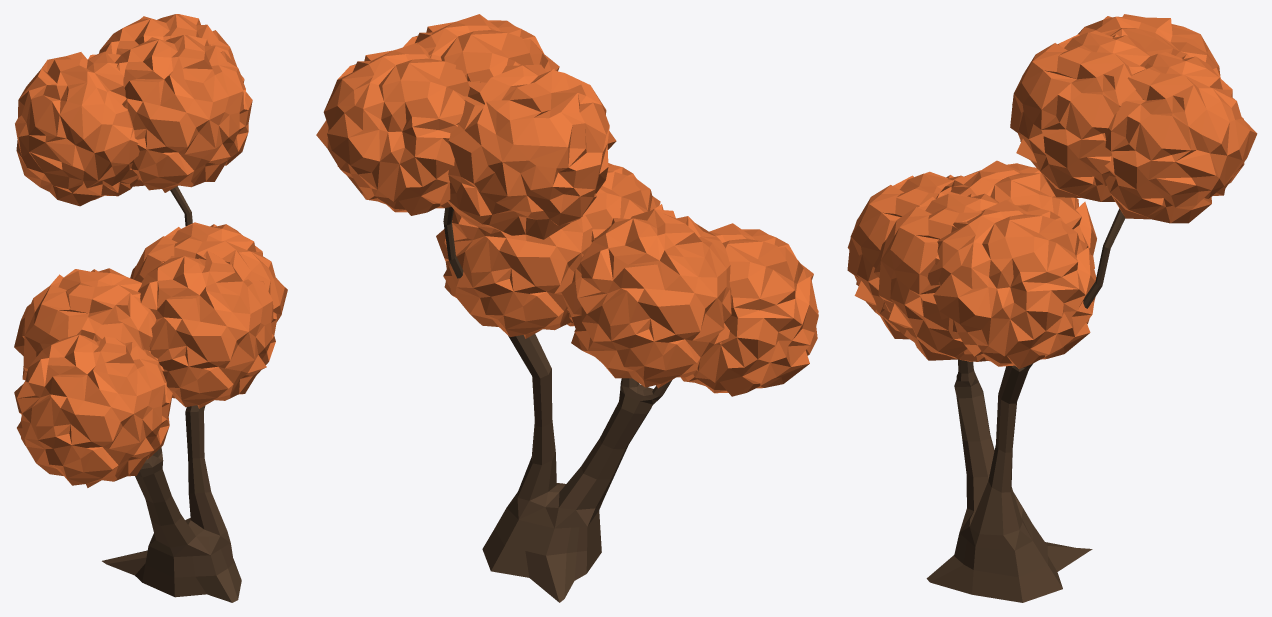
Rendered from fall tree 6.fbx.
3 renders of one model, left to right at view 1: azimuth 30°, elevation 25°; view 2: azimuth 150°, elevation 25°; view 3: azimuth 270°, elevation 25°, orthographic. The views are drawn at different scales.
Visible parts, largest first — view 1: LowPoly Tree .012; view 2: LowPoly Tree .012; view 3: LowPoly Tree .012.
Part boxes in pixels (bbox=[...]): LowPoly Tree .012: bbox=[14, 14, 287, 602]; LowPoly Tree .012: bbox=[316, 14, 818, 602]; LowPoly Tree .012: bbox=[847, 14, 1257, 602].
Bounding box in the file's own units: 128 × 193 × 131.
